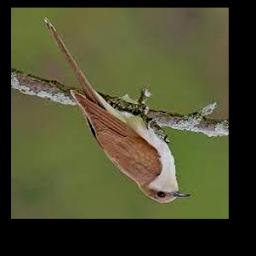Cuckoo: (43, 17, 191, 204)
